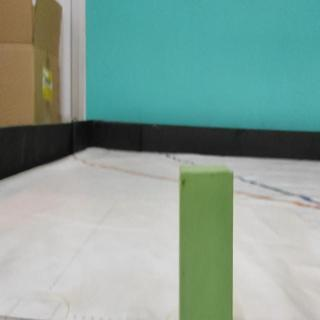greenbox: (177, 165, 236, 320)
